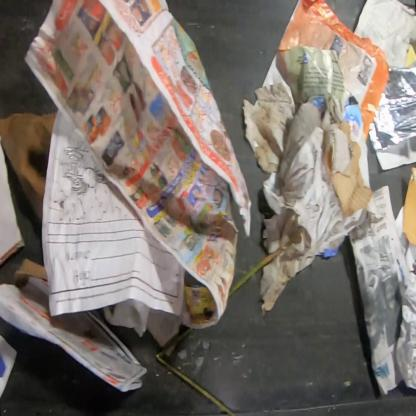cardboard: (0, 112, 56, 222), (327, 121, 374, 217)
soft_plastic: (369, 60, 415, 155)
